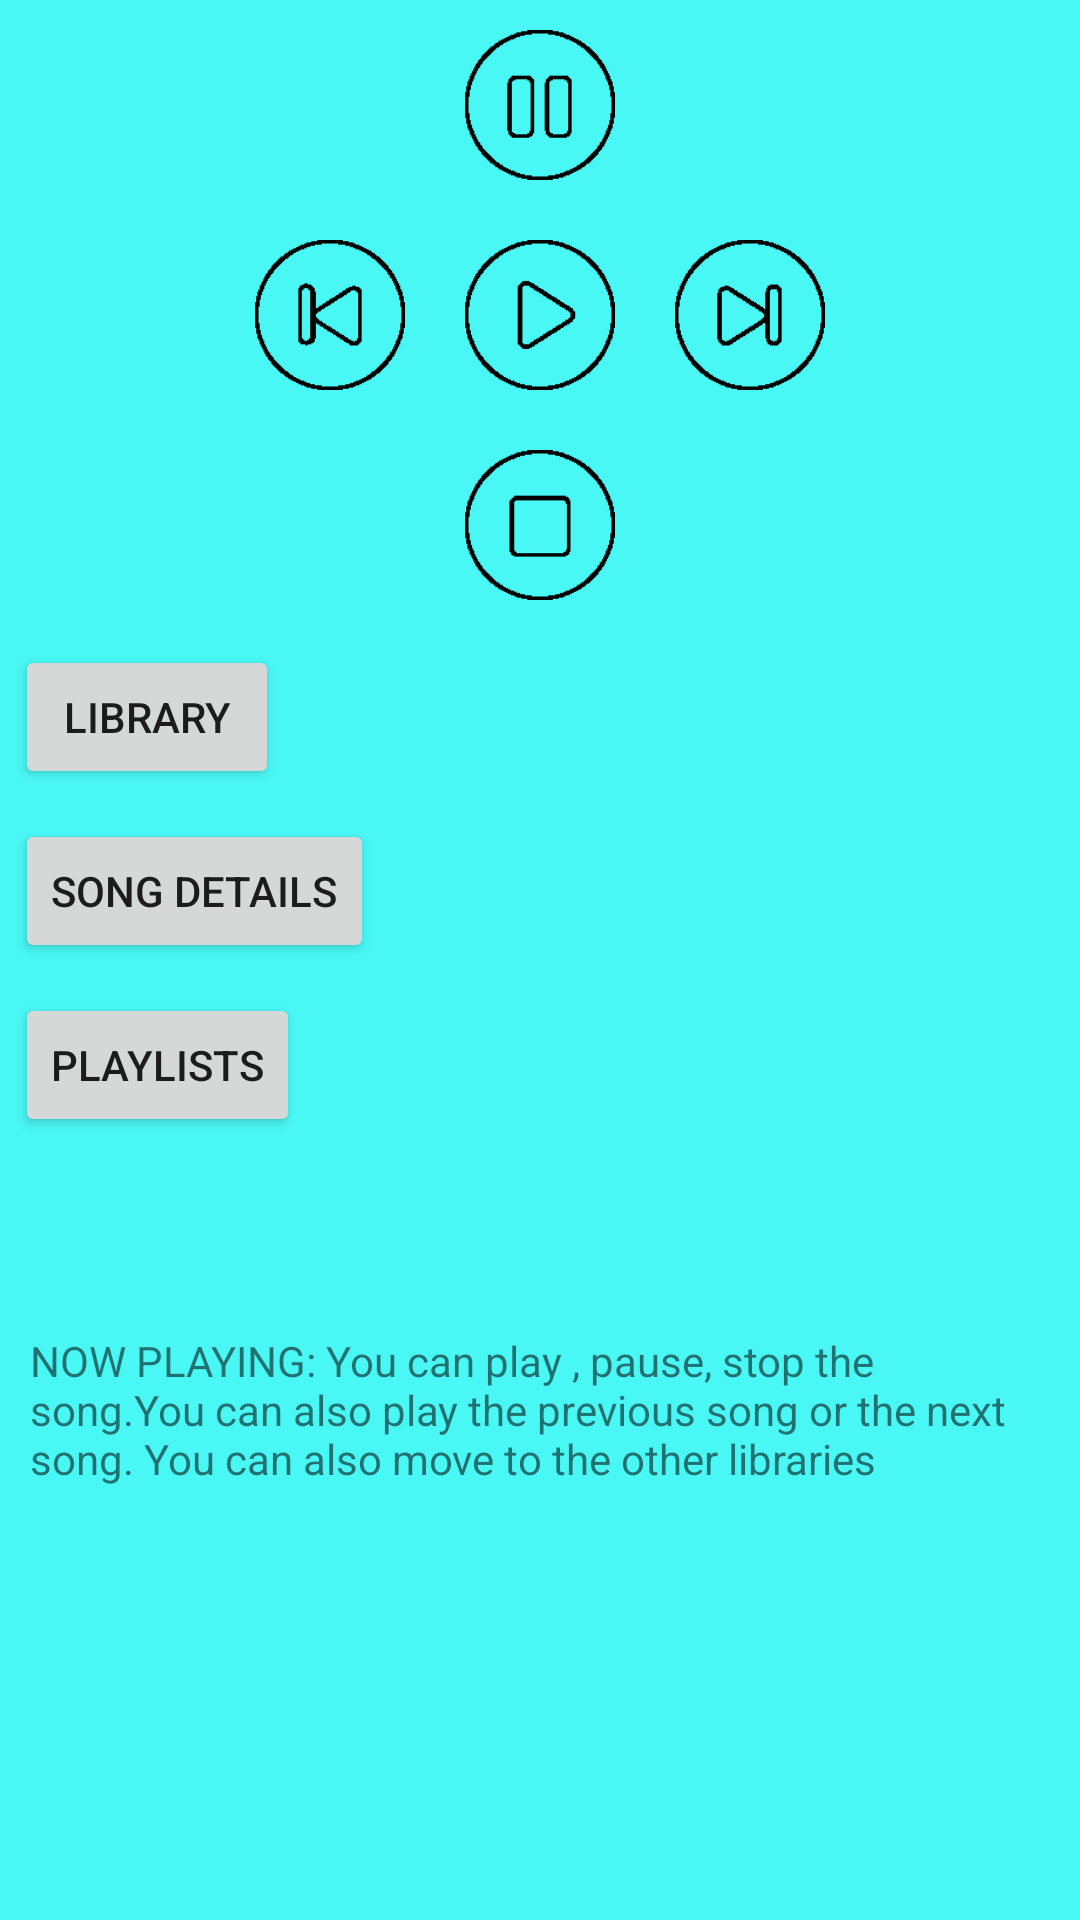

Locate icon controls on the screen. Image size 1080w x 1920h, boxes as BBox(x1, y1, x2, y2).
next: BBox(675, 240, 825, 390)
pause: BBox(465, 30, 615, 180)
play: BBox(465, 240, 615, 390)
prev: BBox(255, 240, 405, 390)
stop: BBox(465, 450, 615, 600)
